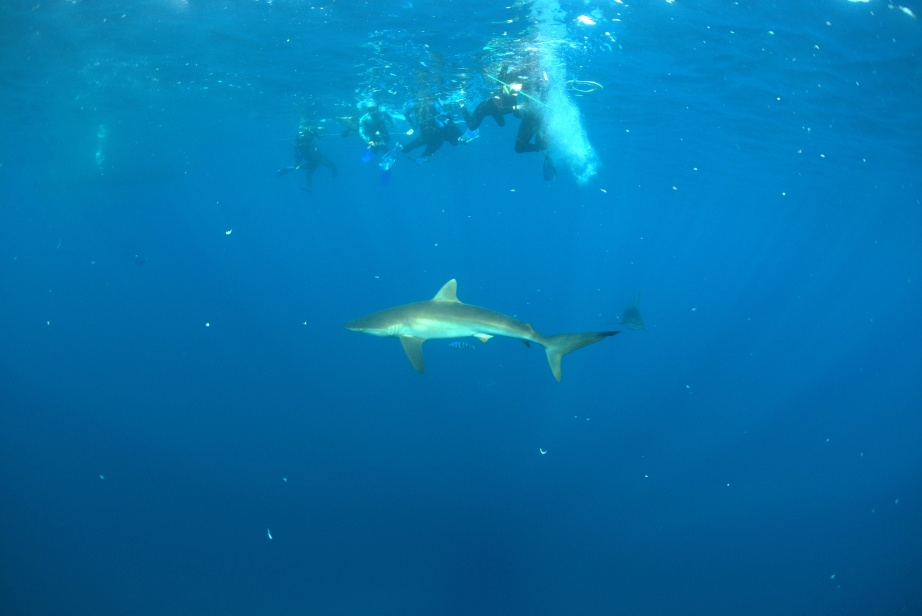Sedoso: (315, 270, 626, 405)
